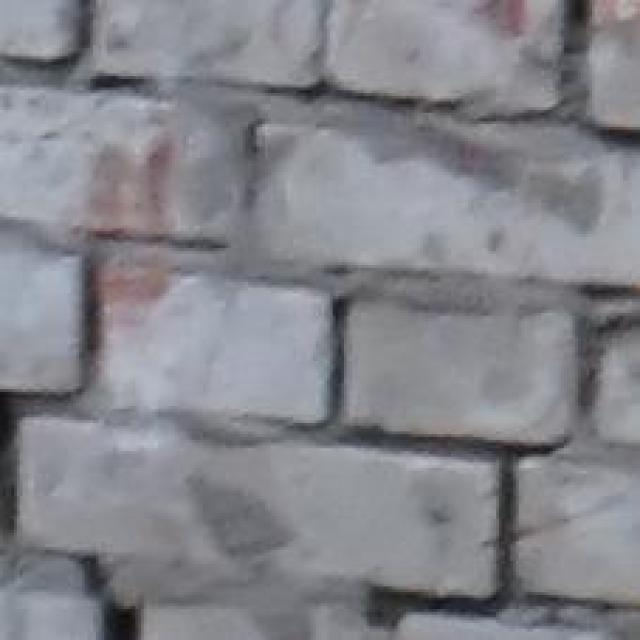Crack: (0, 184, 547, 640)
